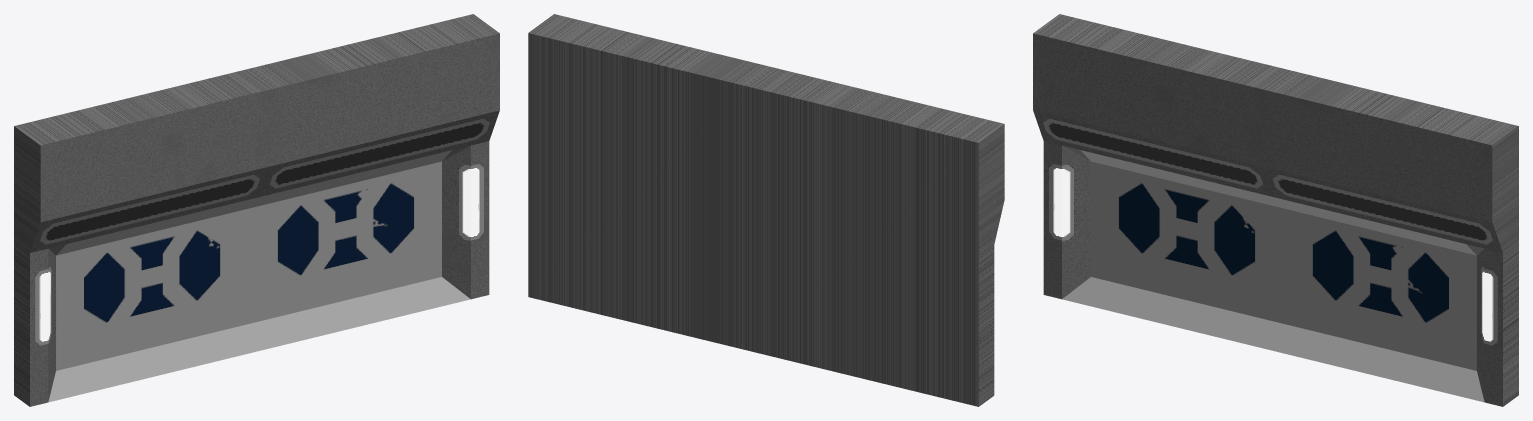
The model's file is Arena_WallD.fbx.
The picture shows the model from 3 angles, left to right: view 1: azimuth 30°, elevation 25°; view 2: azimuth 150°, elevation 25°; view 3: azimuth 330°, elevation 25°; orthographic projection.
Parts seen in each view (by area): view 1: WallD_Low, WallD_Med; view 2: WallD_Med, WallD_Low; view 3: WallD_Low, WallD_Med.
Part boxes in pixels (<box>): WallD_Low: <box>14,34,499,406</box>; WallD_Med: <box>14,14,499,406</box>; WallD_Med: <box>528,14,1004,406</box>; WallD_Low: <box>978,124,1004,255</box>; WallD_Low: <box>1033,34,1518,406</box>; WallD_Med: <box>1033,14,1518,406</box>.
Size of the model in its own units: 25 by 14 by 2.5.
